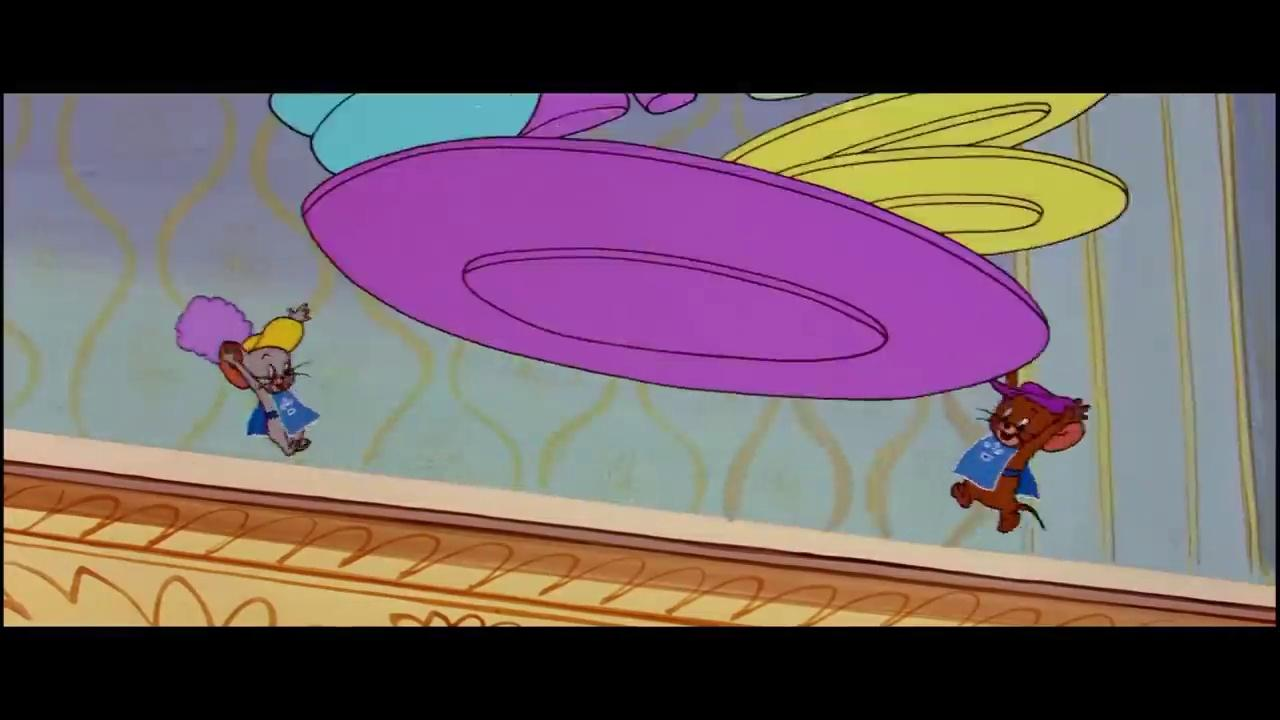Jerry: (949, 370, 1092, 534)
